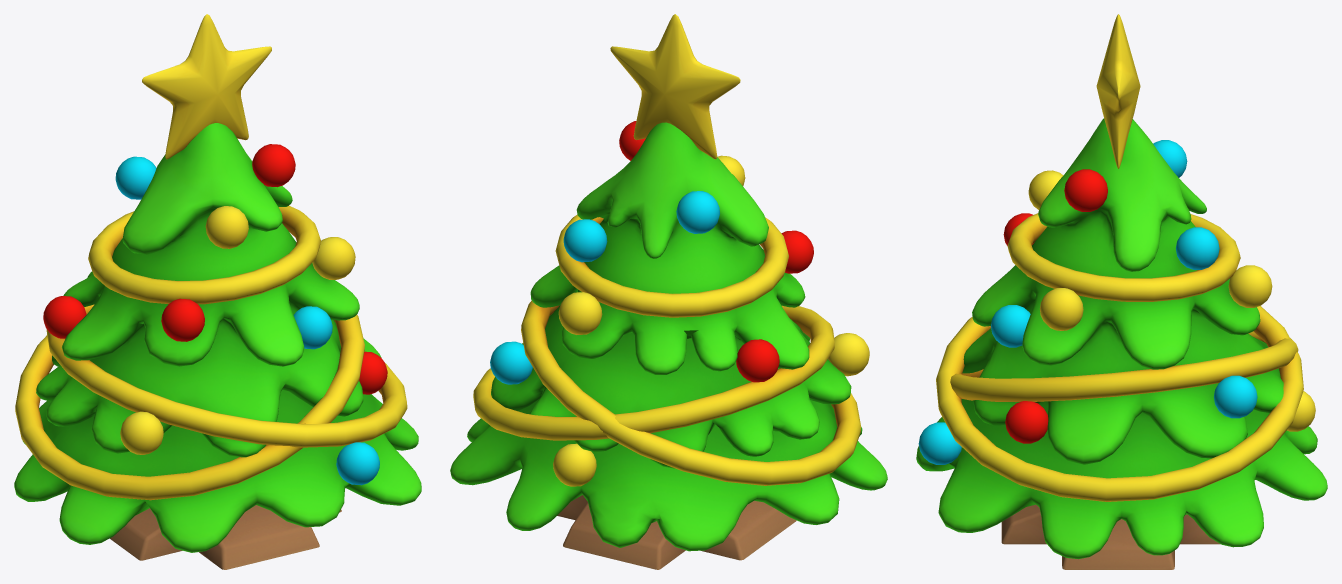
File: qizi_06.FBX
3 renders of one model, left to right at view 1: azimuth 30°, elevation 25°; view 2: azimuth 150°, elevation 25°; view 3: azimuth 270°, elevation 25°, orthographic.
Parts seen in each view (by area): view 1: qizi_06; view 2: qizi_06; view 3: qizi_06.
Part boxes in pixels (<box>): qizi_06: <box>14,14,421,569</box>; qizi_06: <box>450,14,887,569</box>; qizi_06: <box>916,14,1327,569</box>.
Size of the model in its own units: 85.98 by 114 by 84.35.
Materials: 1 (1 with a texture image).
